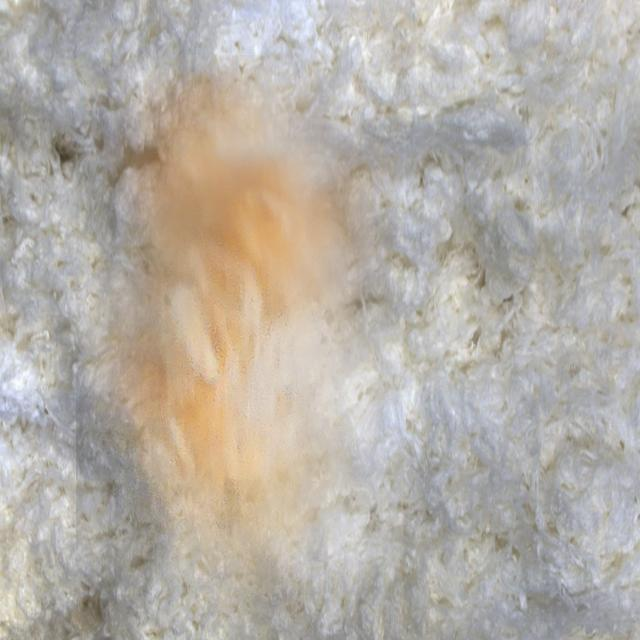dust: (76, 55, 403, 640)
